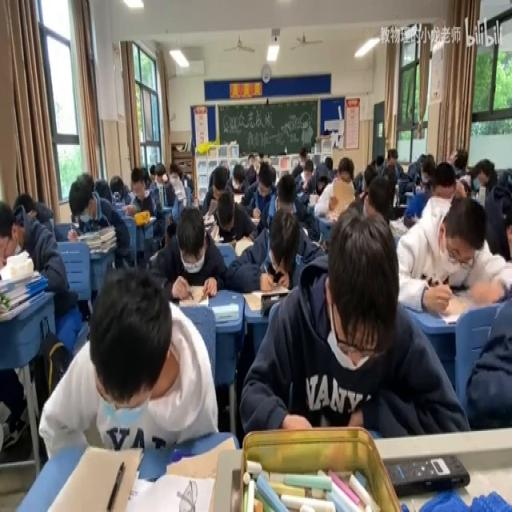calculator: (38, 442, 142, 509), (124, 469, 216, 512), (164, 435, 234, 479), (435, 282, 506, 322), (0, 288, 46, 322), (243, 288, 288, 312), (212, 302, 238, 322), (316, 212, 334, 240), (175, 294, 208, 308), (233, 235, 254, 256), (390, 216, 408, 236), (440, 308, 461, 322), (476, 183, 485, 205), (209, 223, 219, 242), (126, 189, 137, 205), (202, 213, 214, 226), (112, 200, 125, 212), (232, 193, 245, 205), (157, 182, 163, 208), (295, 189, 307, 201), (405, 189, 414, 205), (307, 196, 318, 209), (313, 151, 320, 168), (144, 214, 155, 224), (250, 214, 260, 224), (413, 182, 420, 193)
paper: (238, 208, 460, 438), (37, 263, 218, 464), (154, 203, 228, 299), (4, 195, 70, 297), (70, 171, 134, 270), (35, 331, 72, 404), (359, 171, 402, 229), (290, 165, 324, 237), (484, 174, 512, 260), (242, 159, 276, 229), (0, 367, 27, 452), (401, 159, 434, 219), (128, 165, 158, 219), (429, 161, 467, 203), (464, 156, 494, 195), (165, 159, 187, 205), (224, 160, 250, 194), (274, 174, 296, 214), (382, 148, 404, 182), (12, 192, 36, 222), (216, 198, 233, 229), (206, 168, 222, 192), (338, 156, 354, 180), (452, 148, 468, 171), (364, 160, 378, 184), (110, 176, 124, 199), (291, 164, 303, 184), (353, 170, 363, 194), (249, 152, 261, 172), (296, 151, 306, 168), (374, 155, 385, 169), (139, 171, 149, 186), (183, 174, 193, 189), (418, 155, 427, 171), (155, 170, 165, 184), (258, 154, 270, 165), (324, 155, 333, 169), (149, 162, 156, 176)
person: (384, 452, 470, 494), (394, 204, 406, 218)
